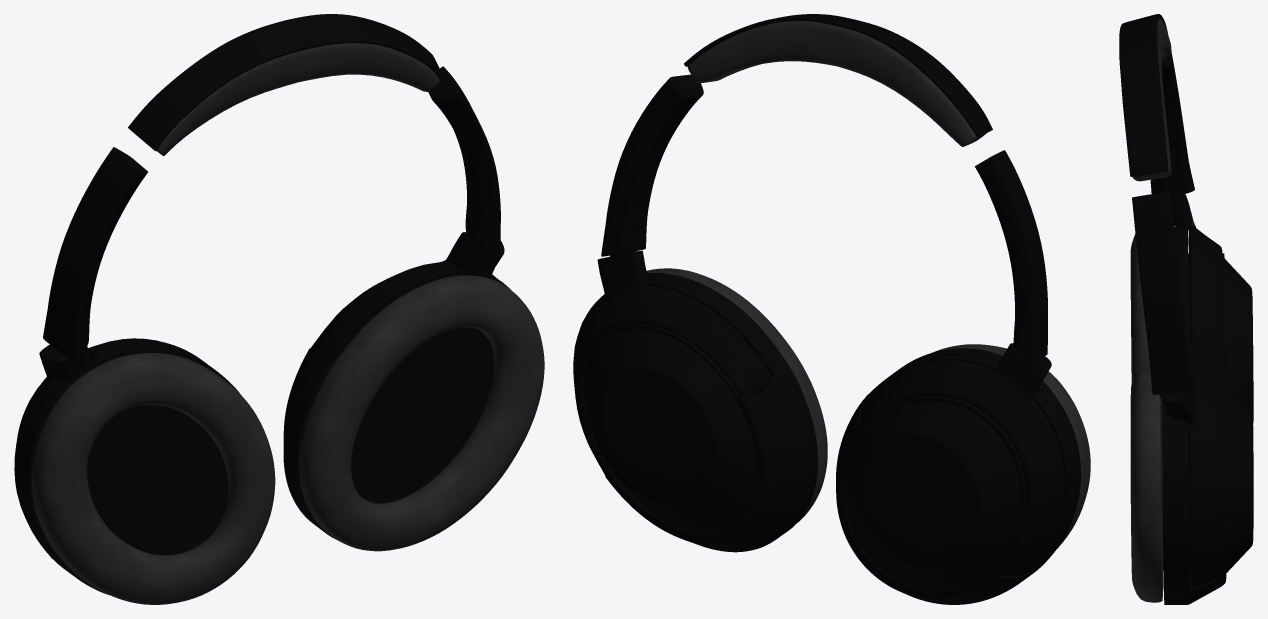
Rendered from headphones.glb.
3 views of the same model, side by side, from view 1: azimuth 30°, elevation 25°; view 2: azimuth 150°, elevation 25°; view 3: azimuth 270°, elevation 25° (orthographic). The views are drawn at different scales.
Parts seen in each view (by area): view 1: Headphones; view 2: Headphones; view 3: Headphones.
Part boxes in pixels (bbox=[...]): Headphones: bbox=[14, 14, 544, 604]; Headphones: bbox=[573, 14, 1090, 604]; Headphones: bbox=[1119, 14, 1253, 604].
Size of the model in its own units: 6.69 by 7 by 1.67.
Materials: 3 (2 with a texture image).
